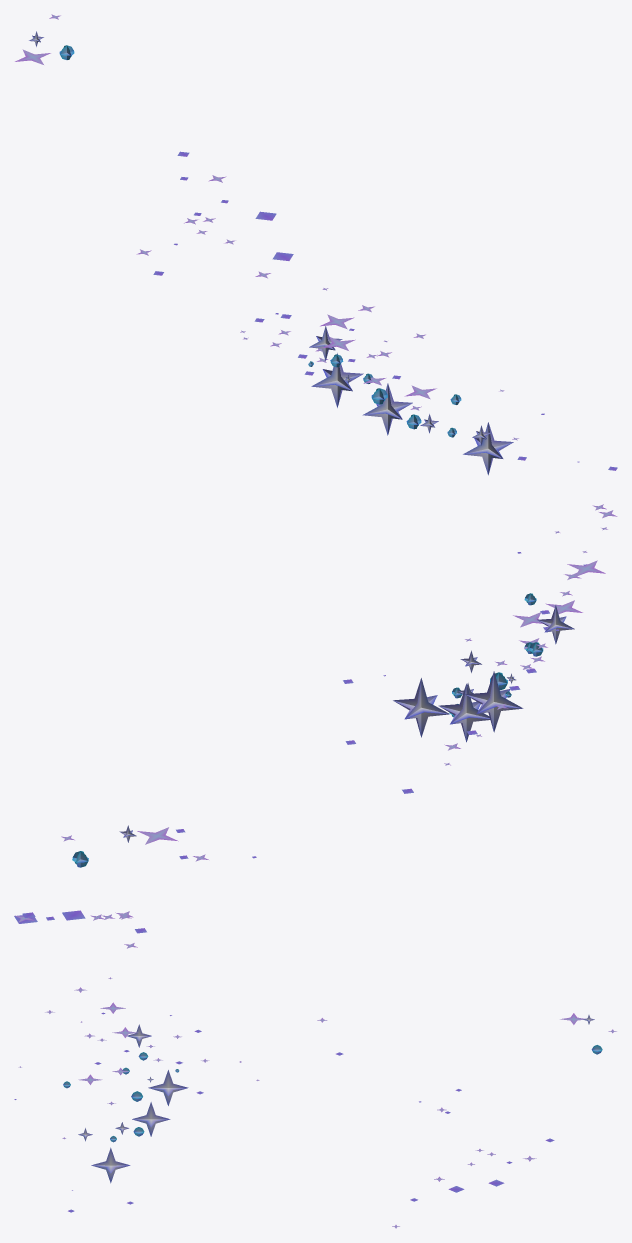
3 views of the same model, one above another, from view 1: azimuth 30°, elevation 25°; view 2: azimuth 150°, elevation 25°; view 3: azimuth 270°, elevation 25° (orthographic). The views are drawn at different scales.
Visible parts, largest first — view 1: starcloud232; view 2: starcloud232; view 3: starcloud232.
Boxes of the visible parts, x1,y1,x2,y2 form: starcloud232: (15,14,617,475); starcloud232: (14,504,617,948); starcloud232: (14,977,616,1228).
Bounding box in the file's own units: 0.1885 × 0.164 × 0.5.
